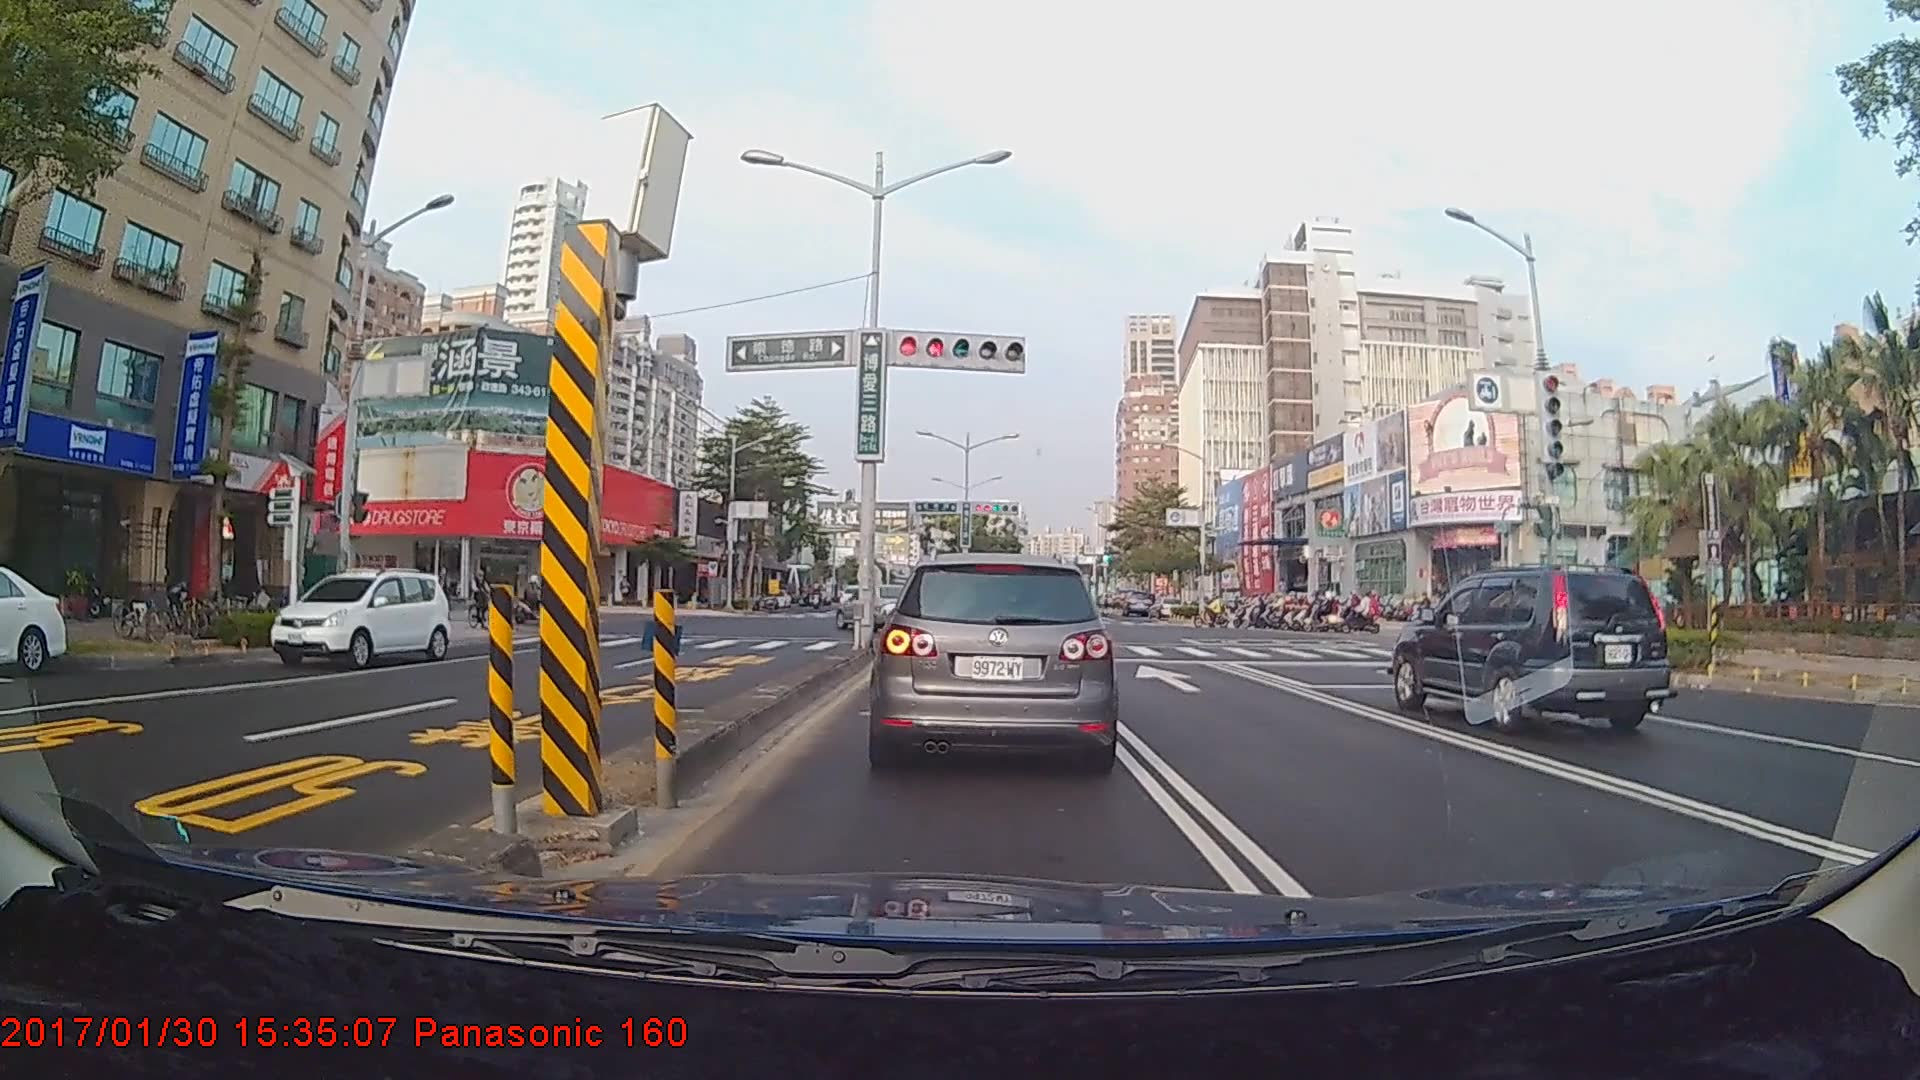pedestrian: (430, 567, 451, 632)
rider: (467, 566, 503, 630)
vehicle: (862, 545, 1121, 774), (1388, 565, 1669, 736), (268, 569, 450, 670), (0, 560, 69, 674), (835, 583, 930, 628), (1122, 590, 1153, 617)
